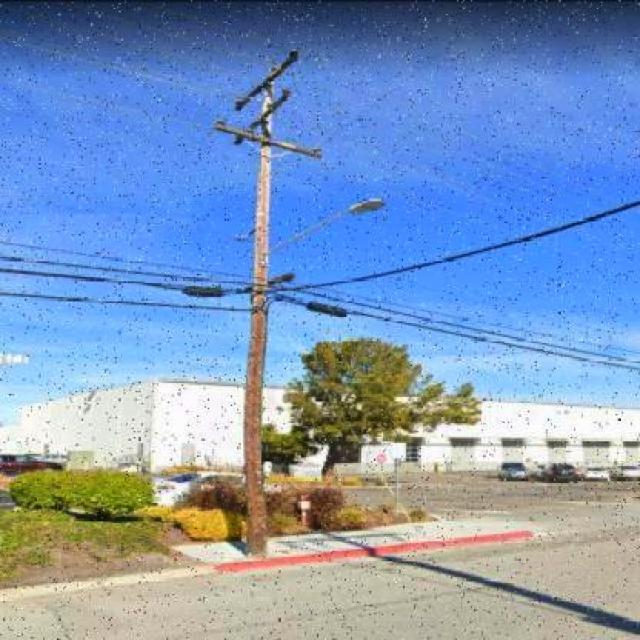crossarm: (235, 48, 299, 112), (214, 123, 322, 158), (235, 90, 293, 145)
pole: (244, 88, 271, 555)
wire: (0, 200, 640, 294), (264, 294, 640, 372), (293, 290, 640, 367), (0, 241, 255, 278), (0, 256, 255, 286), (0, 292, 254, 310)
